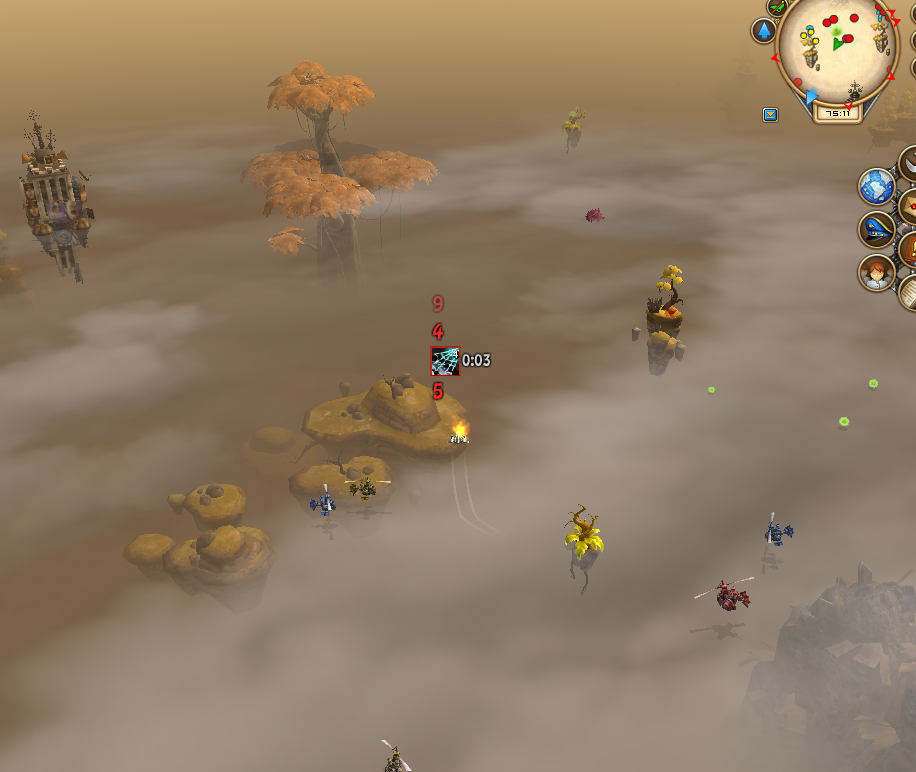dandelion-empty: (563, 496, 605, 584)
dandelion-full: (560, 99, 590, 152)
fluff: (832, 411, 852, 434), (701, 378, 719, 400), (864, 374, 882, 394)
